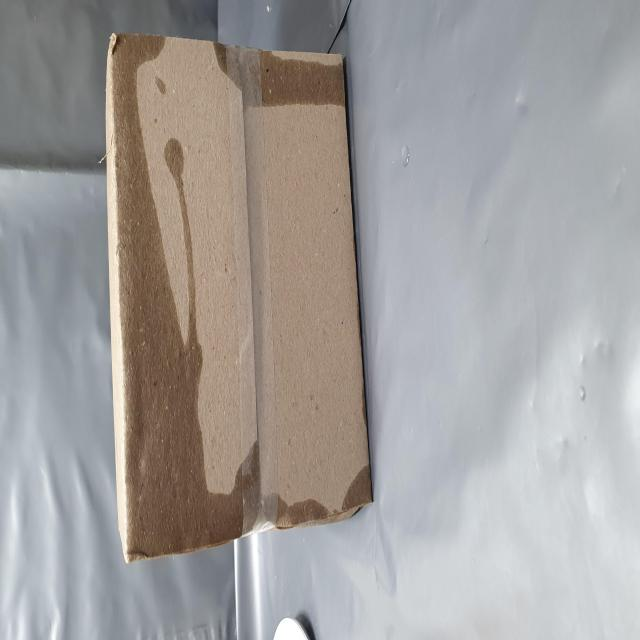wet: (48, 219, 336, 440), (299, 394, 340, 631)
